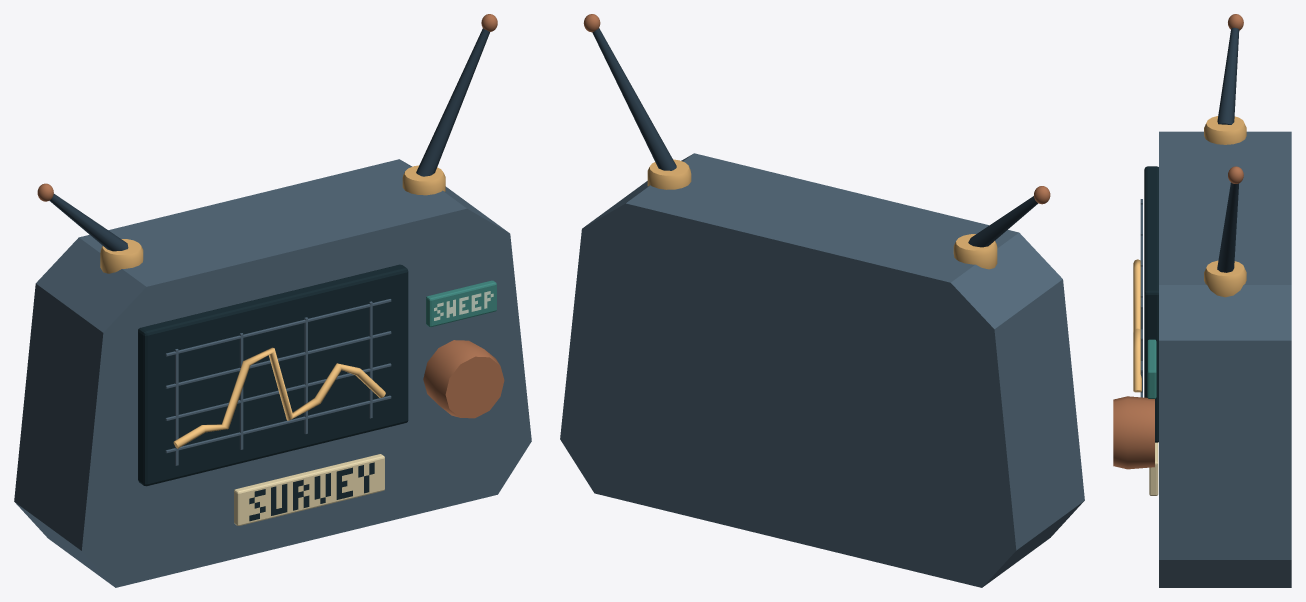
The picture shows the model from 3 angles, left to right: view 1: azimuth 30°, elevation 25°; view 2: azimuth 150°, elevation 25°; view 3: azimuth 270°, elevation 25°; orthographic projection. The views are drawn at different scales.
Visible parts, largest first — view 1: PR124 enamel and hardware; view 2: PR124 enamel and hardware; view 3: PR124 enamel and hardware.
Boxes of the visible parts, left/top/right/bottom form: PR124 enamel and hardware: left=14, top=14, right=531, bottom=587; PR124 enamel and hardware: left=560, top=14, right=1084, bottom=587; PR124 enamel and hardware: left=1113, top=14, right=1291, bottom=587.
Size of the model in its own units: 0.48 by 0.4445 by 0.1651.
